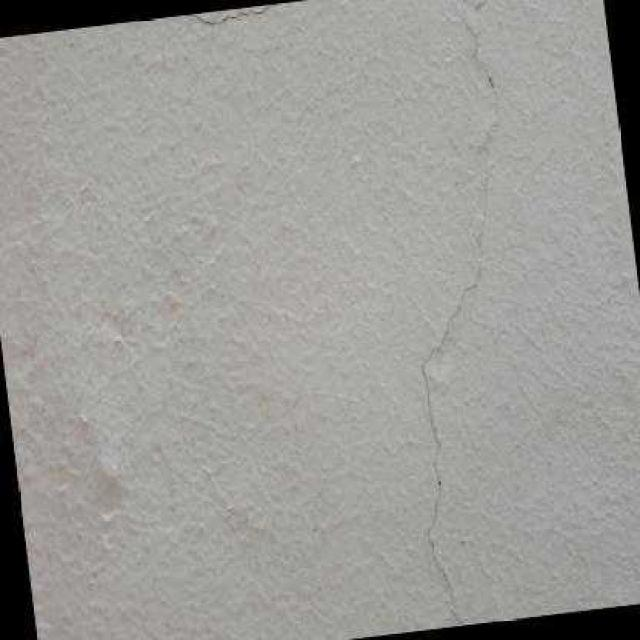D00: (419, 0, 501, 626)
